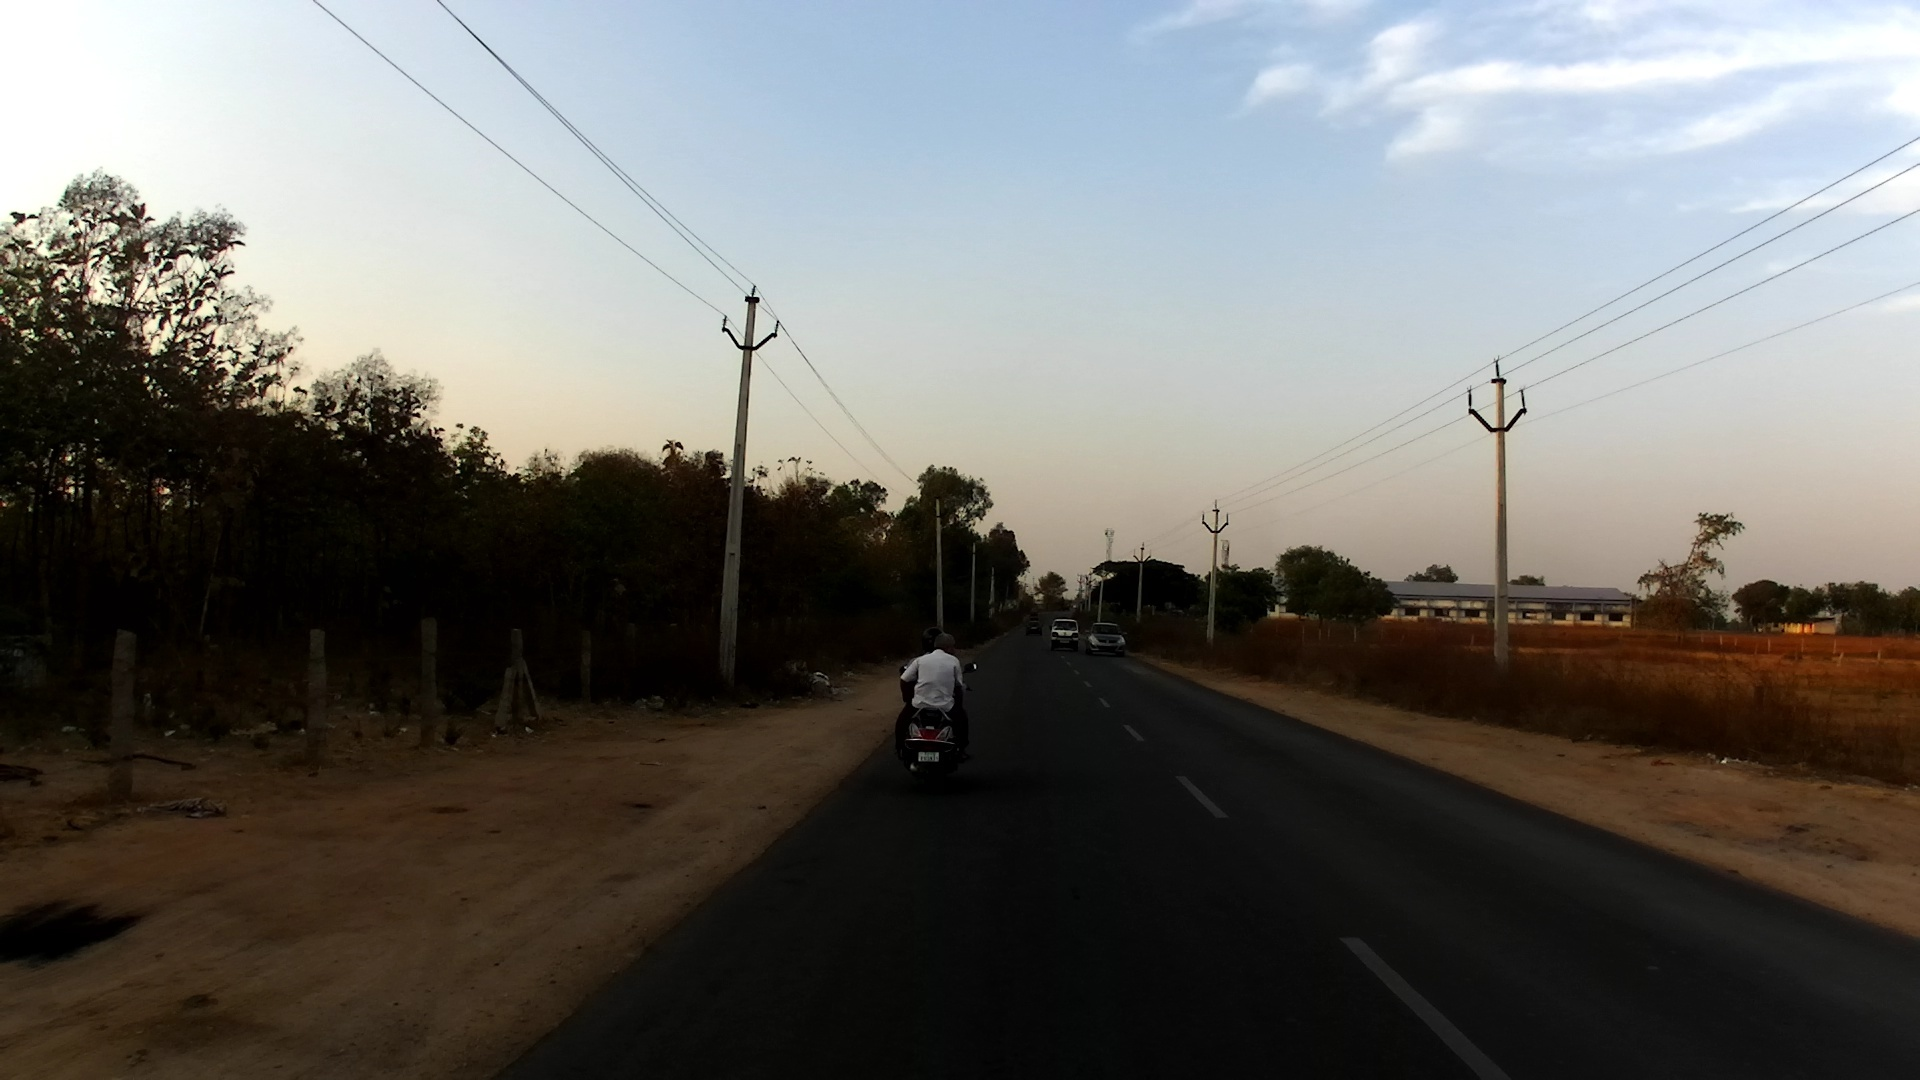car: (1083, 621, 1128, 655), (1048, 617, 1080, 650), (1022, 620, 1043, 637)
motorcycle: (898, 659, 980, 797)
rider: (896, 633, 982, 767), (905, 624, 966, 717)
